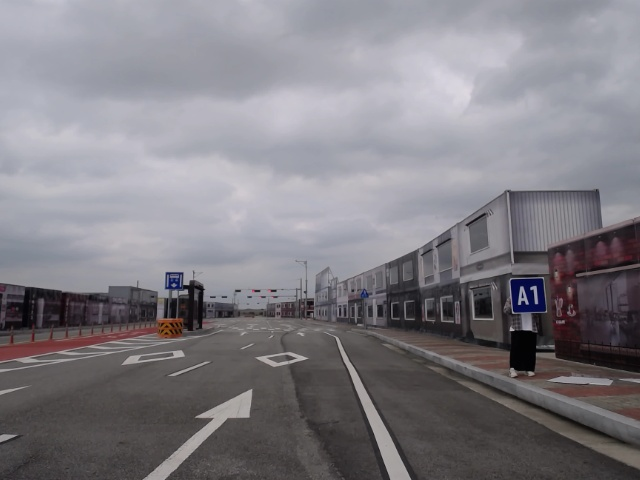delivery_a1: (509, 278, 548, 314)
